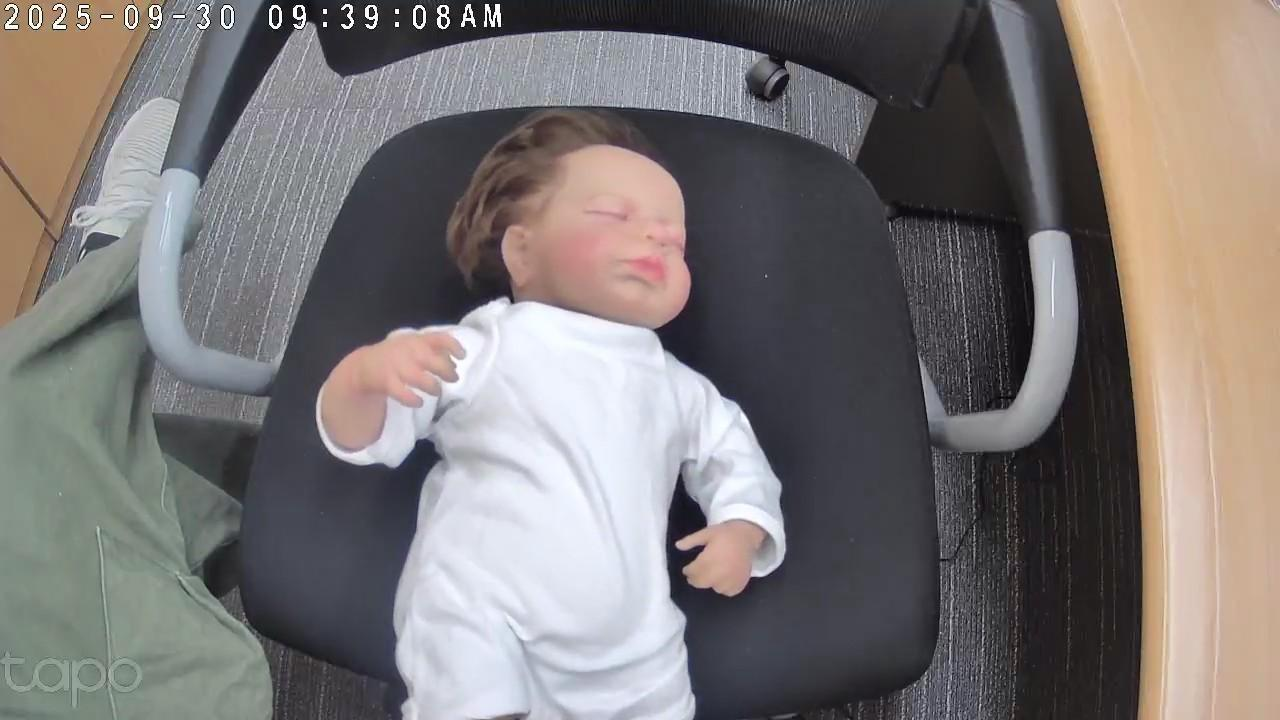hand: (375, 333, 468, 408), (678, 523, 760, 600)
